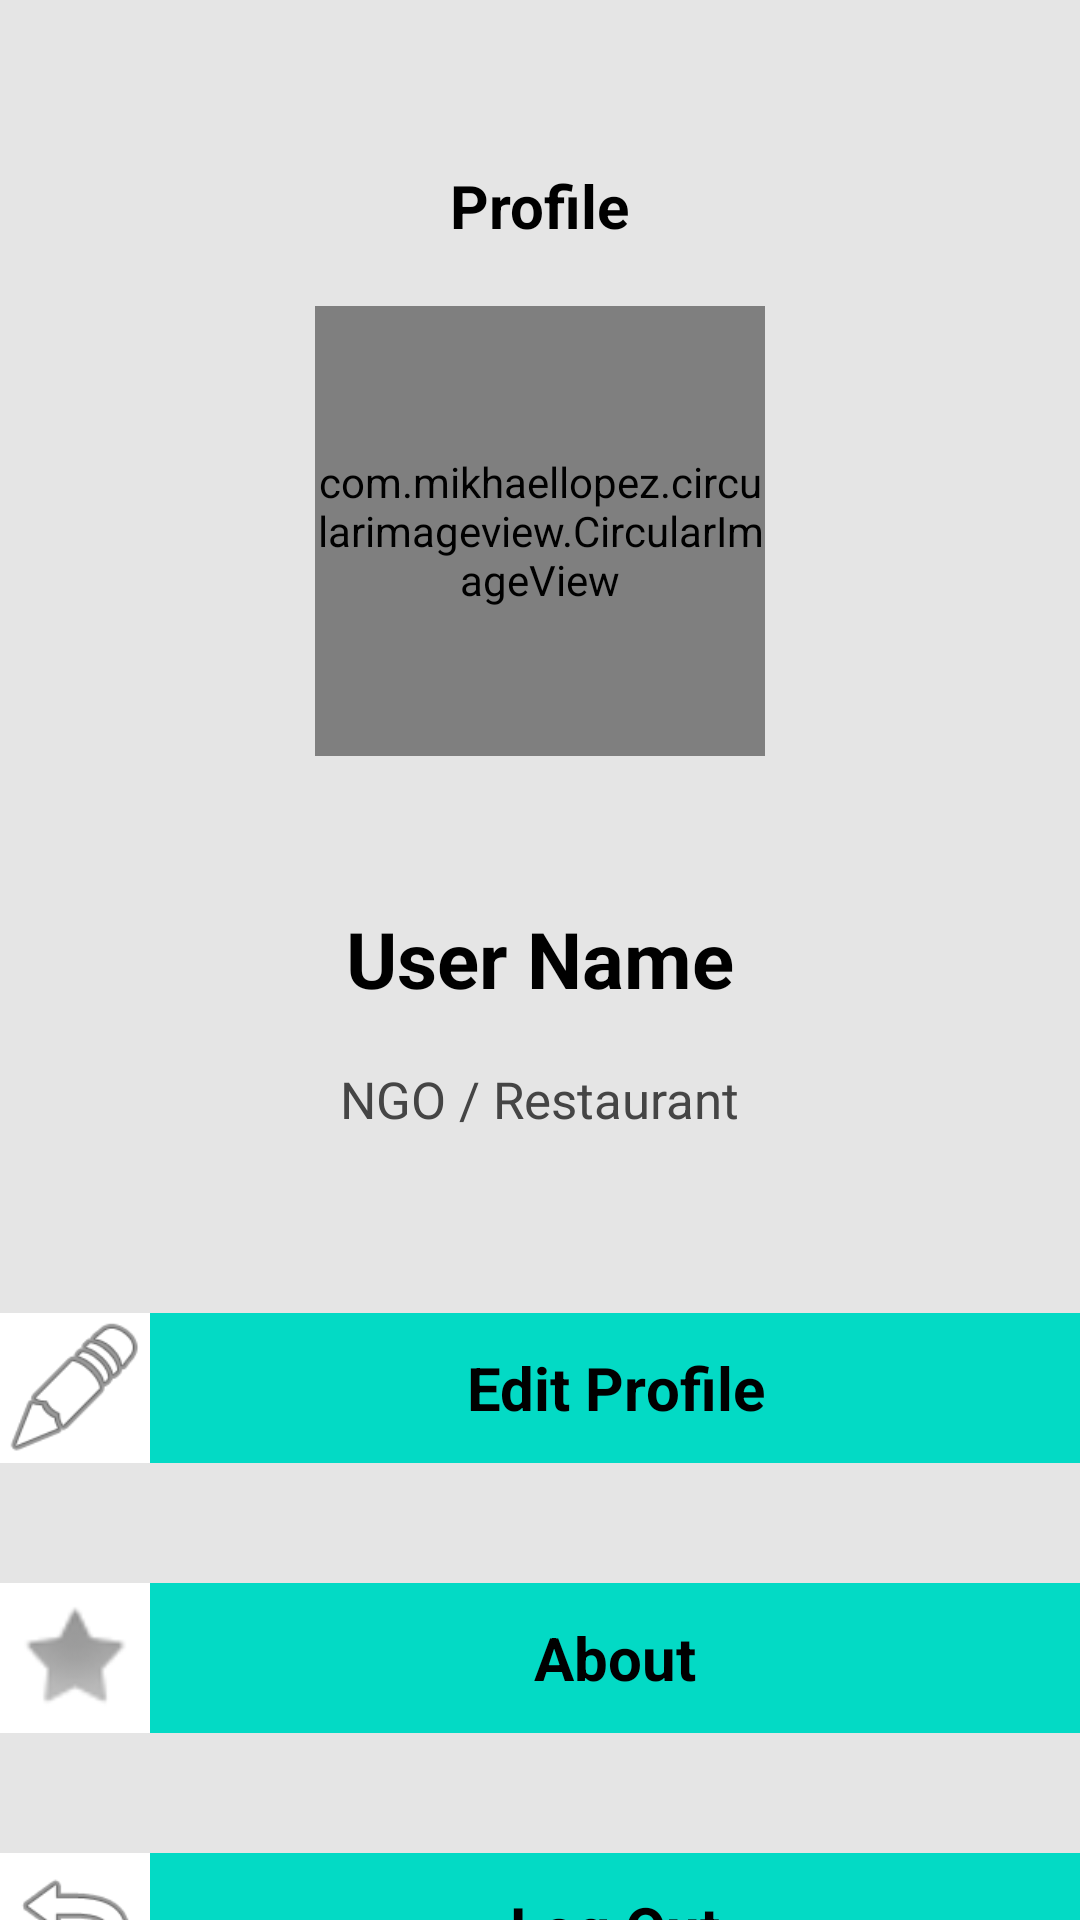

Icons on this 1080 x 1920 Android screen, each with the point to tap as point (x, y):
star off: point (75, 1658)
